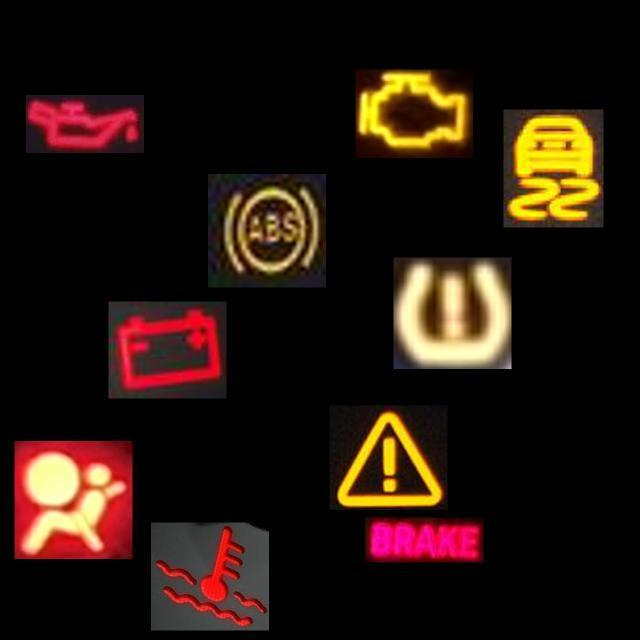Central Warning lamp: (330, 406, 448, 510)
Engine cooling system: (151, 522, 269, 630)
